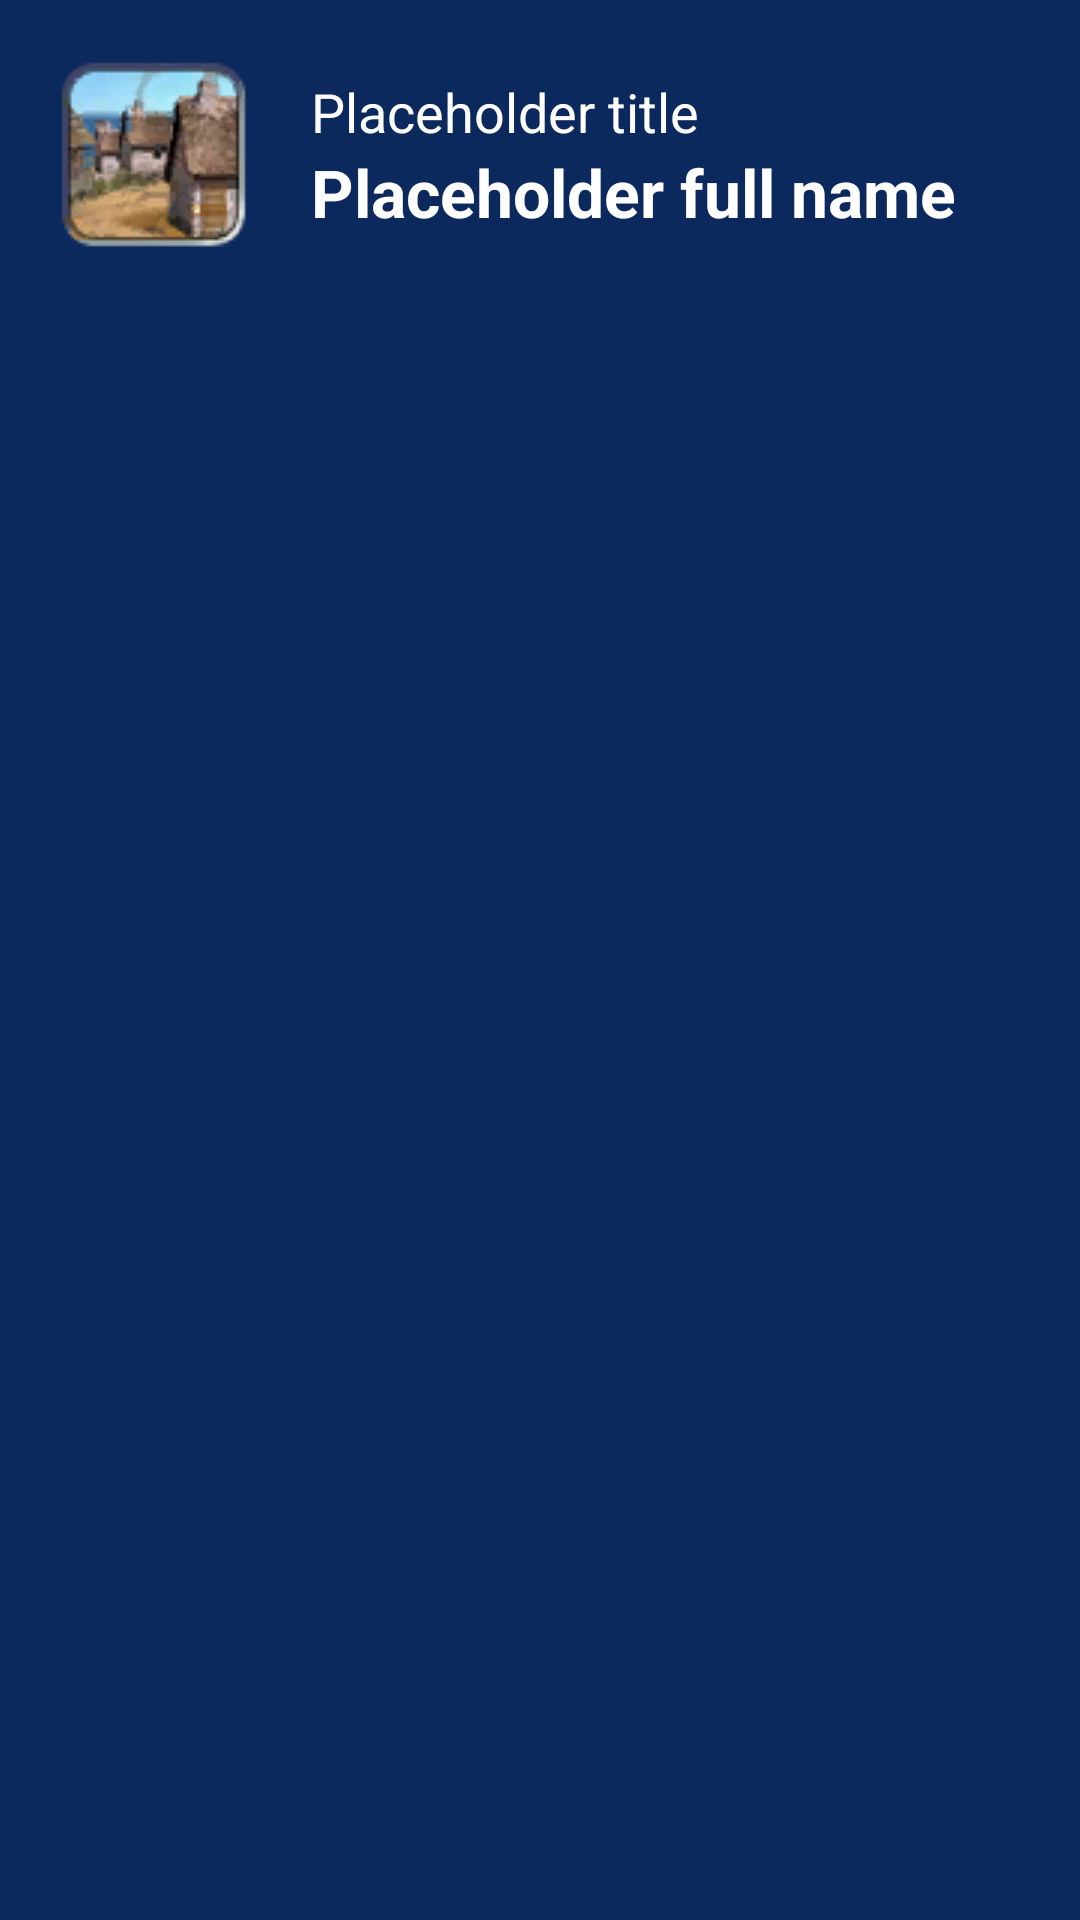

Where to tap for icons on this 1080w x 1920h app screen, as [x,y]:
buildtown: [154,155]
